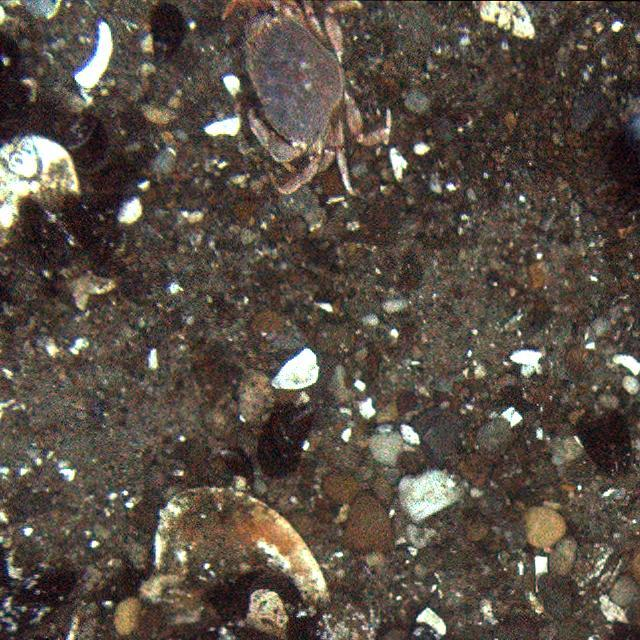crab: (215, 0, 396, 206)
